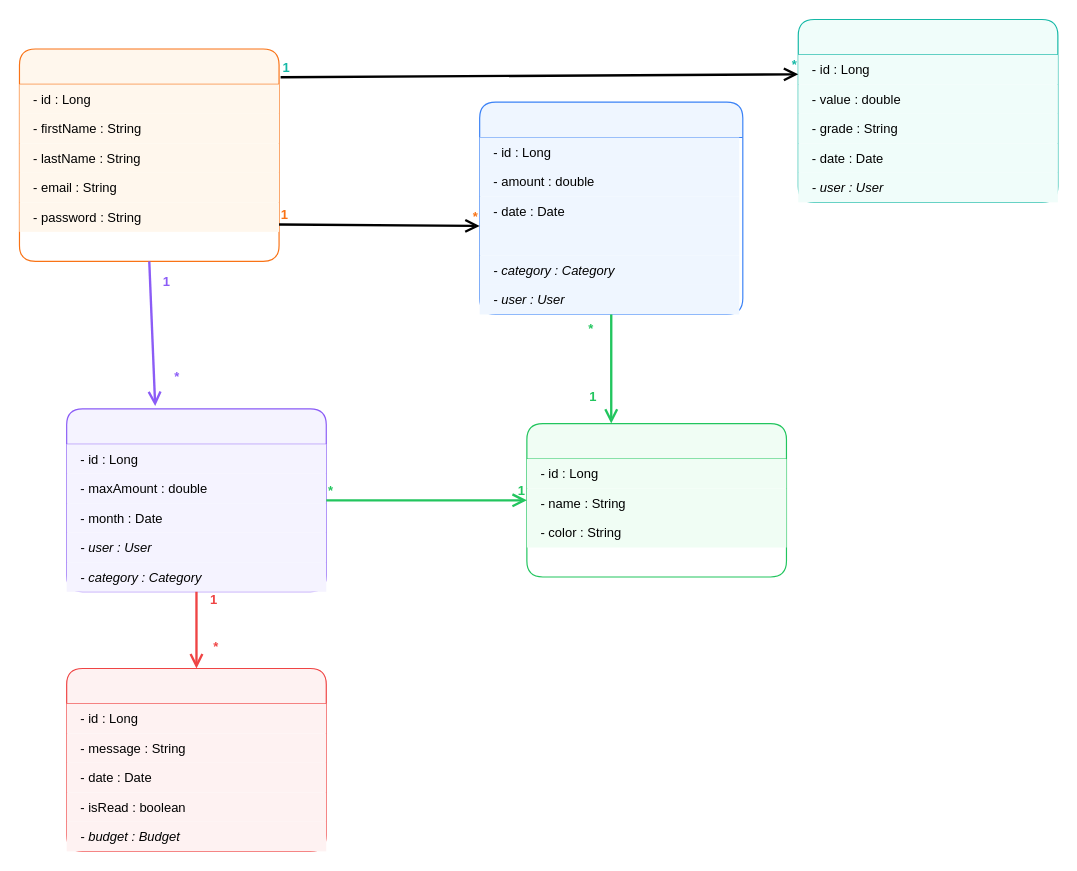
The diagram is 1077 pixels wide and 871 high, and some of its shapes have lost their labels. Here are the shapes that lost their labels. From the top down, the box of each, then its label:
(797, 18, 1058, 202): FinancialHealthScore
(18, 48, 279, 261): User
(478, 101, 743, 314): Expense
(479, 225, 739, 255): - description : String
(65, 408, 326, 592): Budget
(526, 422, 786, 577): Category
(65, 667, 326, 851): Alert
